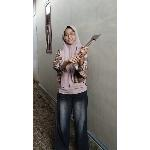Kapak: (68, 31, 104, 67)
